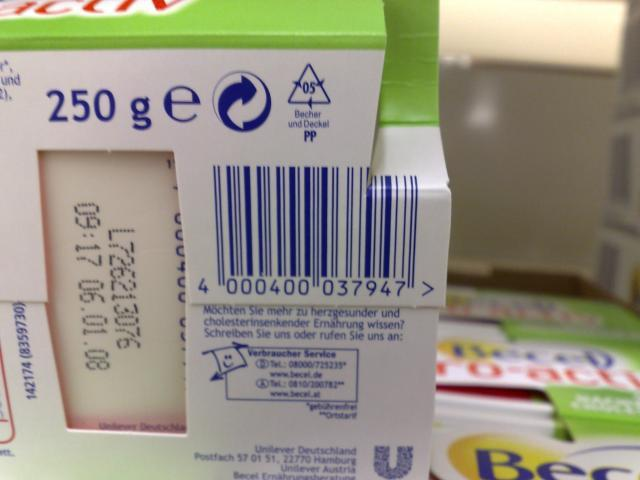Barcode: (193, 147, 442, 306)
